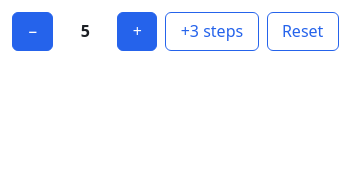
Scenario: Counter › increments, decrements and resets
expect the text named "count" reads "5": met, box [81,20,90,42]
Click the button named "increment". click: click(137, 31)
box: [117,12,157,51]
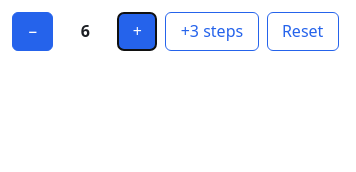
Click the button named "increment". click: click(137, 31)
box: [117,12,157,51]
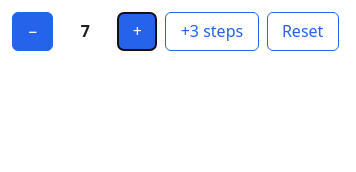
expect the text named "count" reads "7": met, box [81,20,90,42]
Click the button named "decrement". click: click(33, 31)
box: [12,12,53,51]
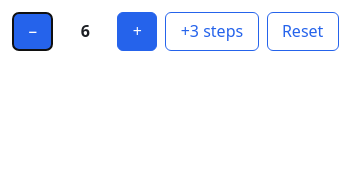
expect the text named "count" reads "6": met, box [81,20,90,42]
Click the button "Reset". click: click(303, 31)
box: [266,12,339,51]
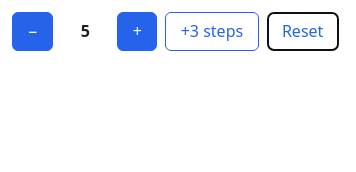
expect the text named "count" reads "5": met, box [81,20,90,42]
